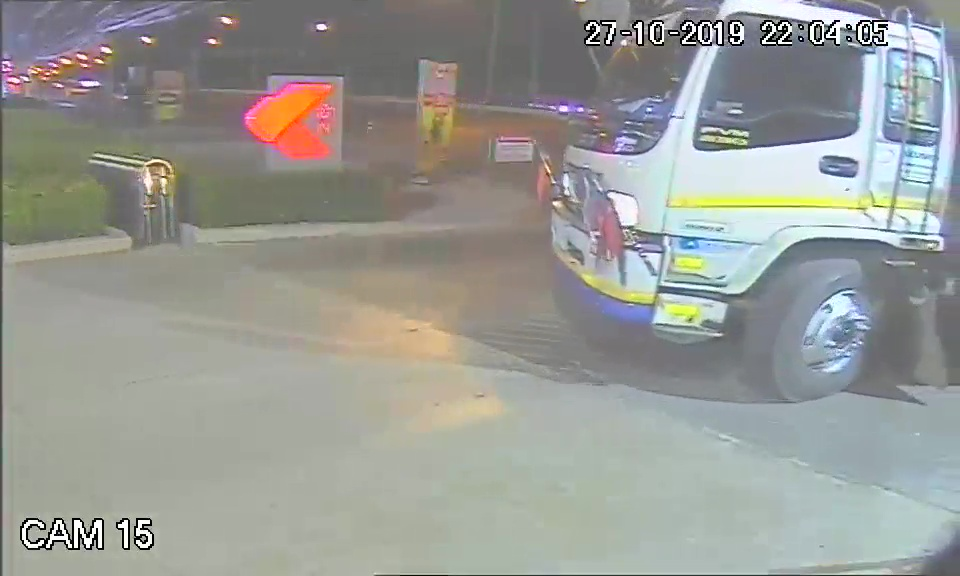truck: (550, 7, 943, 411)
